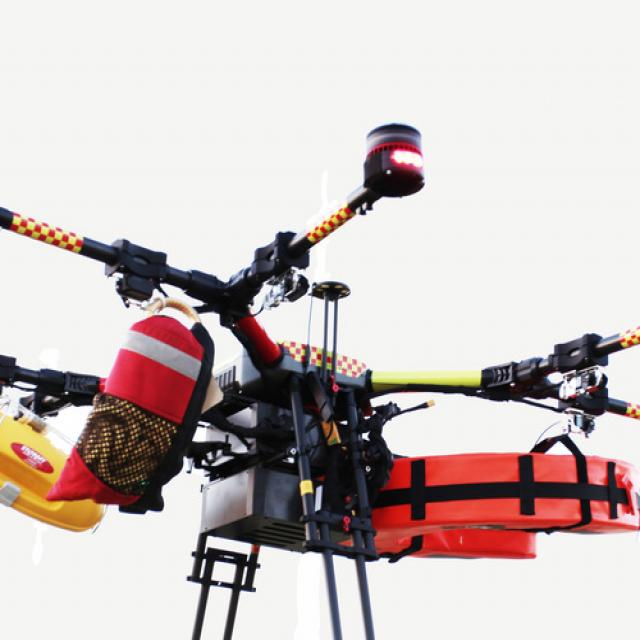drone: (0, 101, 640, 612)
